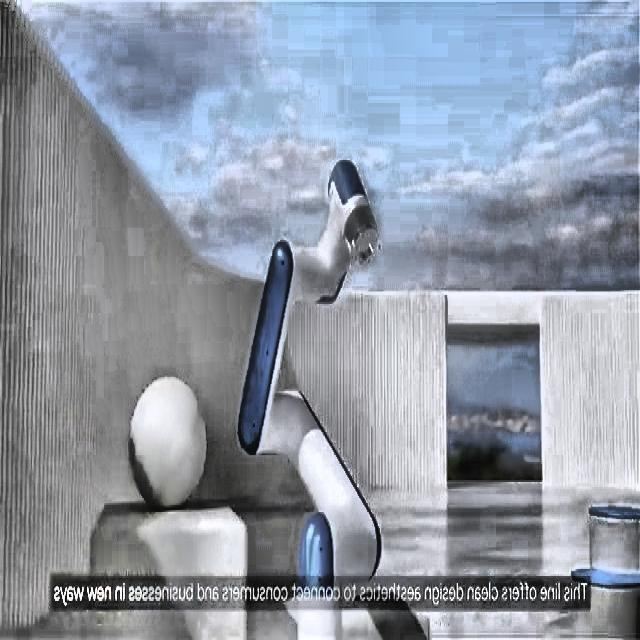robot: (237, 156, 383, 594)
